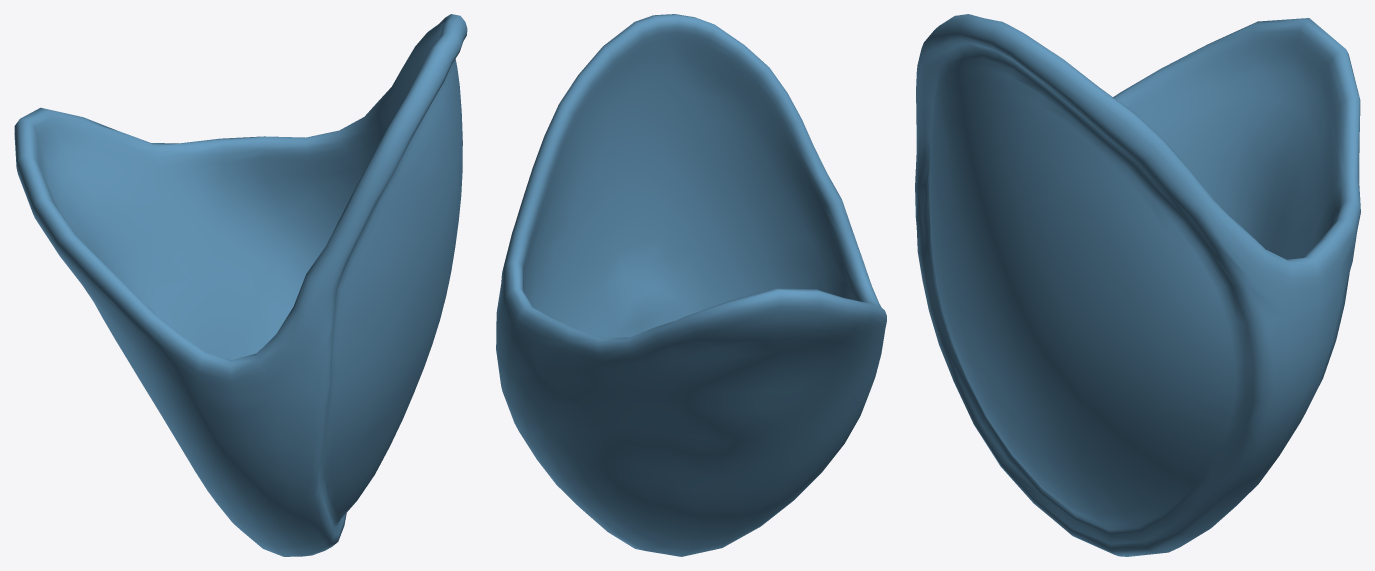
File: TR3_Enamel_Prongs.001 3.glb
3 views of the same model, side by side, from view 1: azimuth 30°, elevation 25°; view 2: azimuth 150°, elevation 25°; view 3: azimuth 270°, elevation 25° (orthographic). The views are drawn at different scales.
Parts seen in each view (by area): view 1: TR3_Enamel_Prongs.001; view 2: TR3_Enamel_Prongs.001; view 3: TR3_Enamel_Prongs.001.
Part boxes in pixels (x1=…): TR3_Enamel_Prongs.001: x1=14, y1=14, x2=467, y2=556; TR3_Enamel_Prongs.001: x1=496, y1=14, x2=886, y2=556; TR3_Enamel_Prongs.001: x1=915, y1=14, x2=1360, y2=556.
Size of the model in its own units: 0.7971 by 1.1 by 0.7752.
